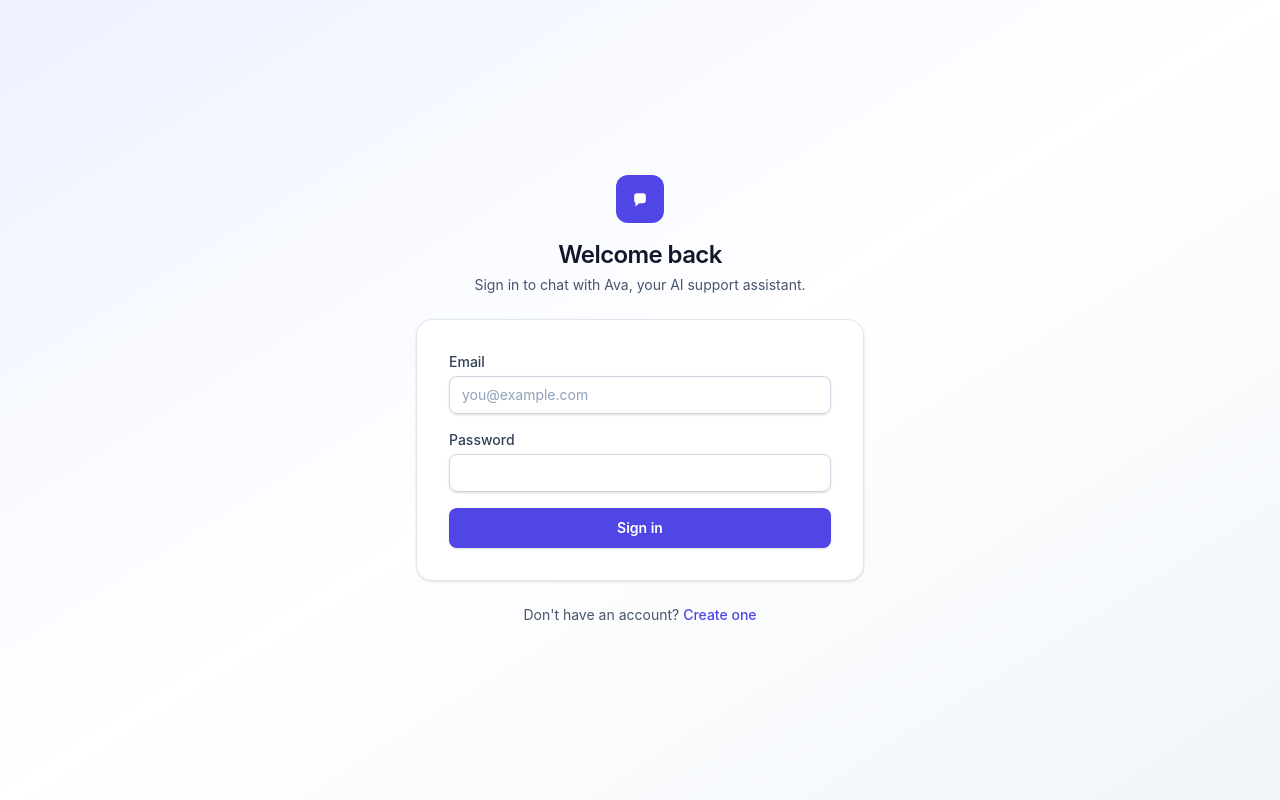
it: Login page › logs in and redirects to the originally requested page
This screenshot has width=1280, height=800.
Note: Redirected to login first.
In the field labelled "Email": (640, 395) [449,376,831,414], type "ada@example.com"
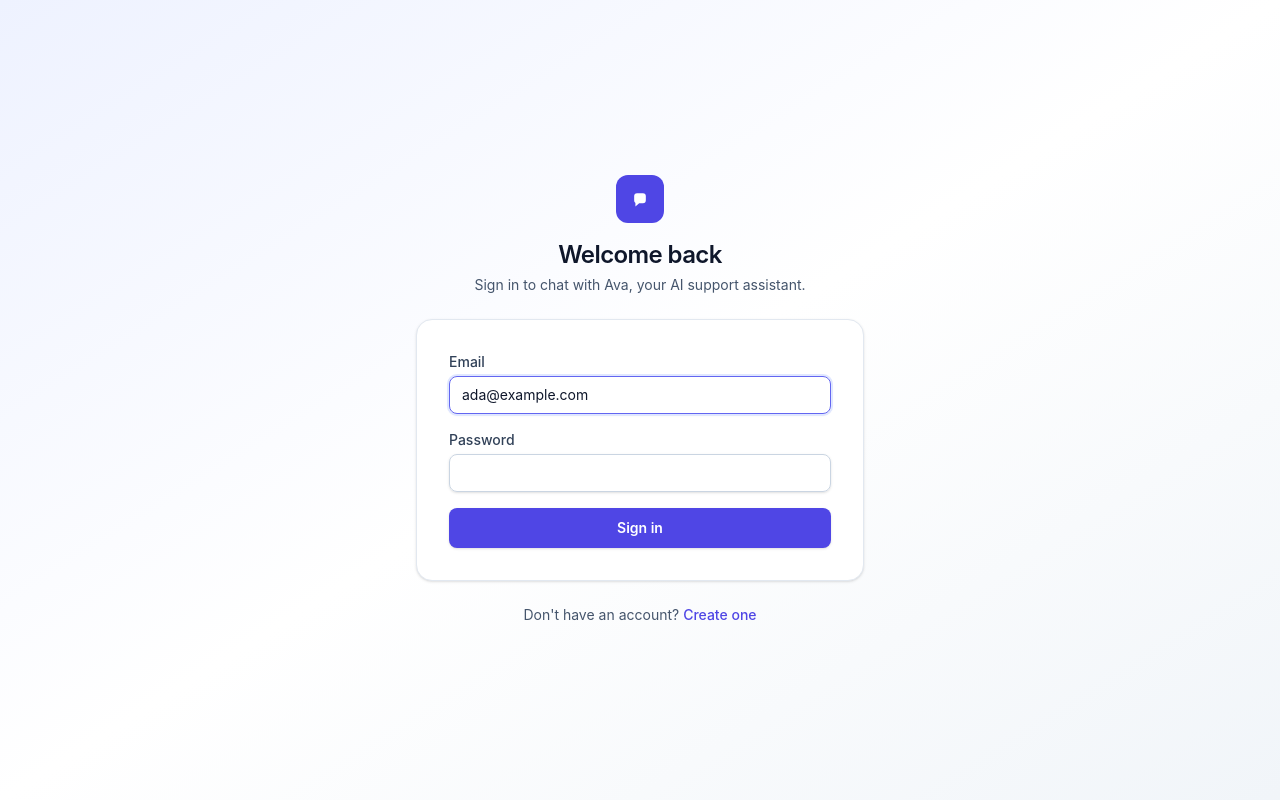
In the password field labelled "Password": (640, 473) [449,454,831,492], type "Password1"
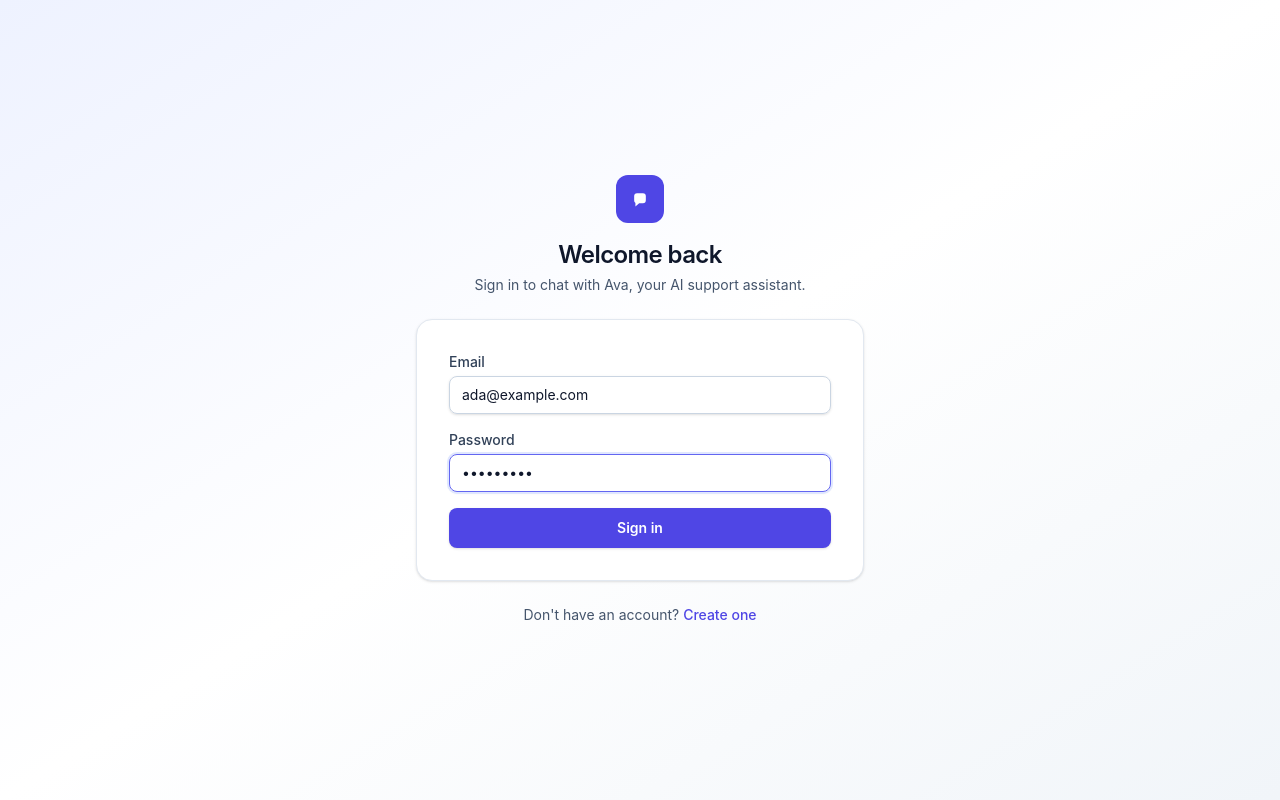
Click the button "Sign in": (640, 528) [449,508,831,548]
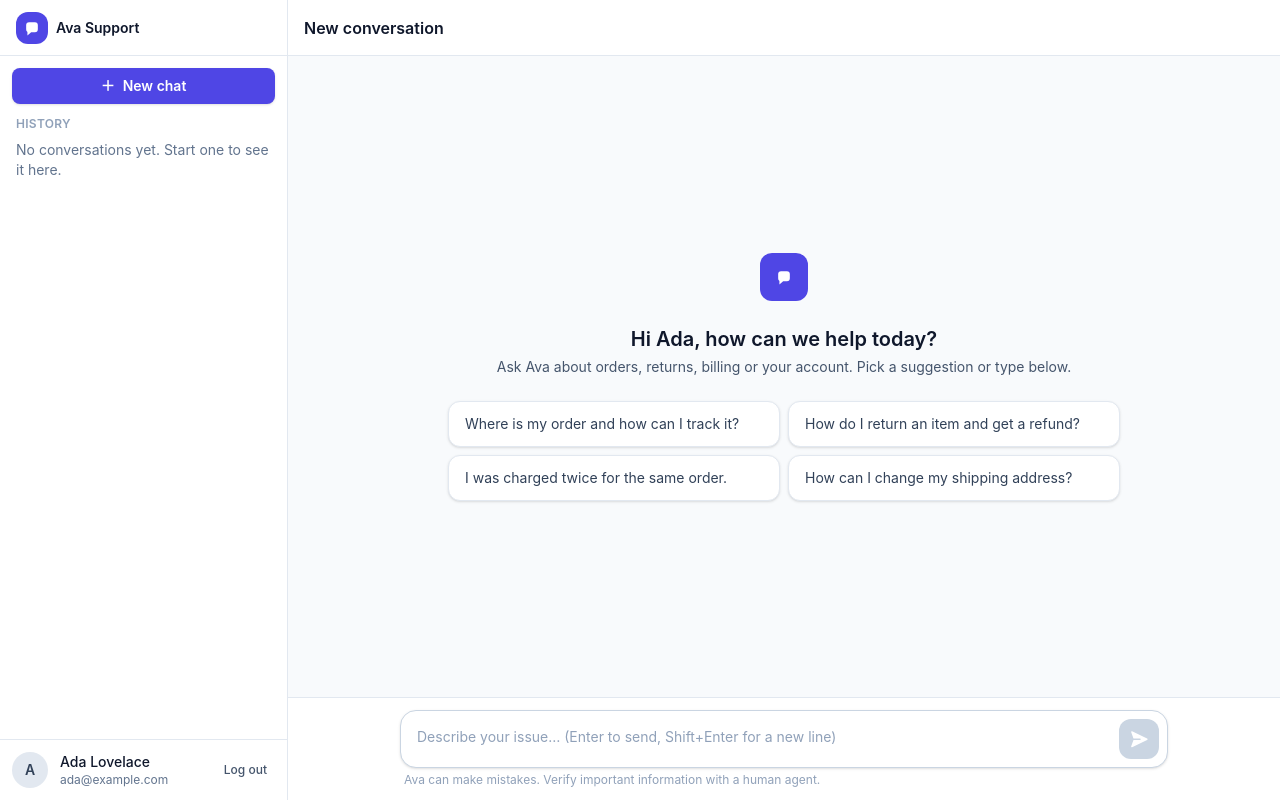
Now the heading "Hi Ada, how can we help today?" is shown, box [631,326,937,350]
